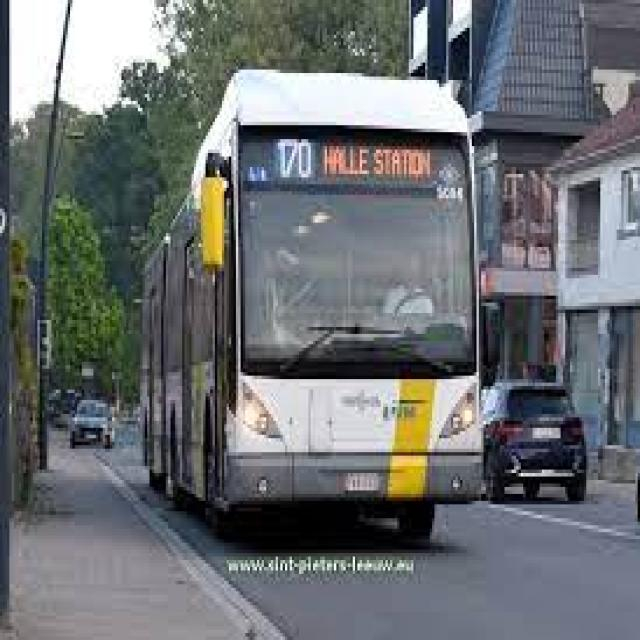bus-number: (274, 136, 314, 180)
